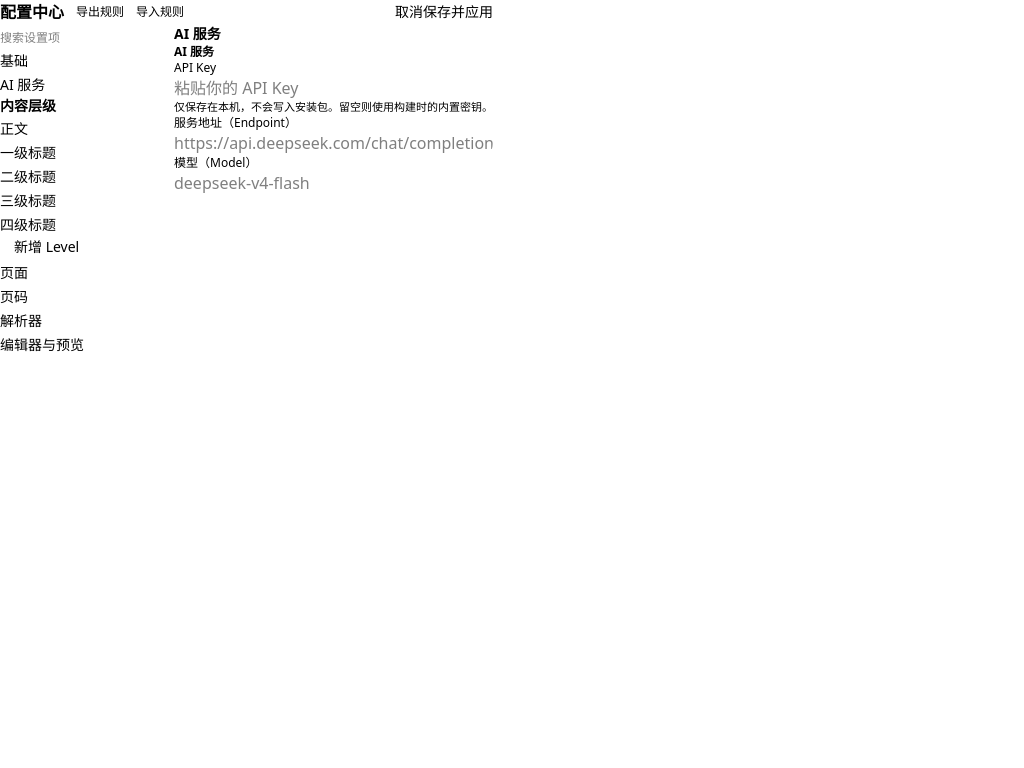
Test case: add-level (新增 Level) button › renders a new custom level section after clicking the add button
The image size is (1024, 768).
What coordinates should you click on to do the following:
click the button "新增 Level"
I would click on:
 (87, 247)
Its box is [0,237,174,257].
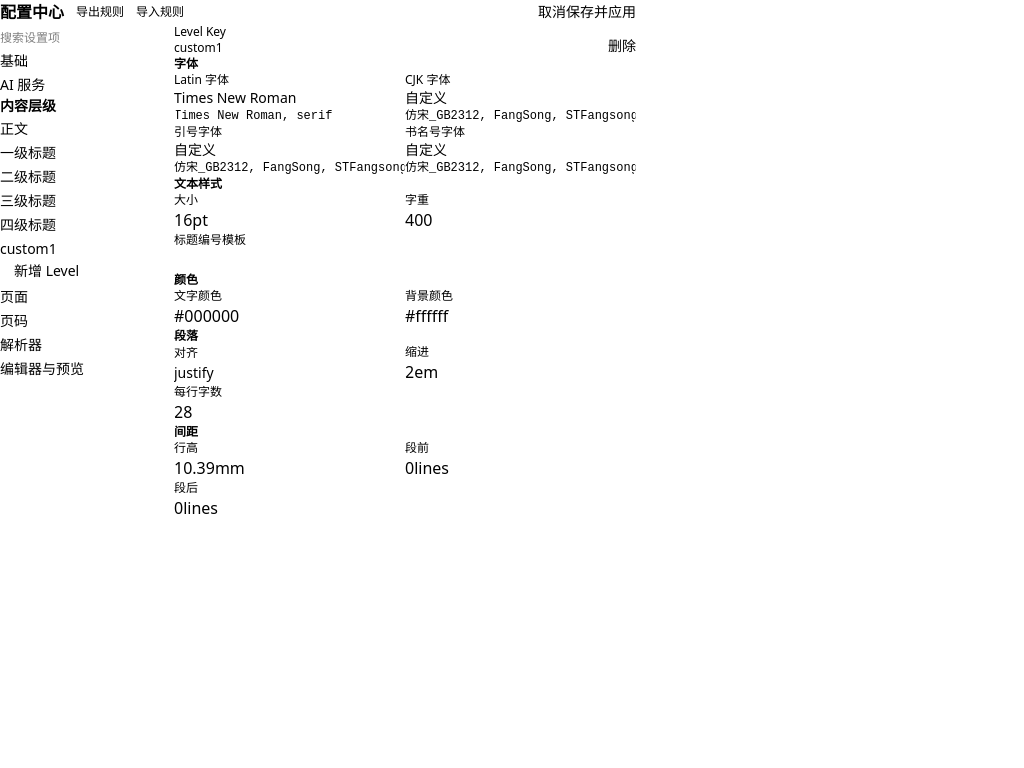
Now the button "custom1" is shown, box [0,239,174,259]
